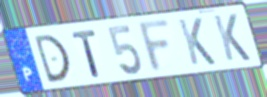5: (106, 22, 144, 77)
D: (32, 32, 74, 86)
F: (136, 16, 174, 76)
K: (211, 12, 253, 63), (176, 16, 218, 67)
T: (70, 28, 103, 79)
